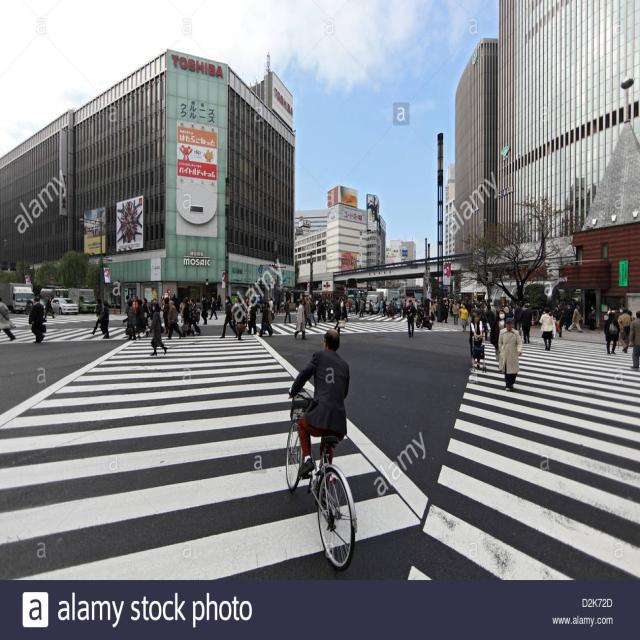body: (323, 286, 637, 357), (118, 275, 322, 341), (285, 328, 351, 497), (332, 187, 390, 276), (497, 316, 523, 392), (148, 301, 169, 357), (218, 294, 239, 340), (28, 295, 47, 344), (468, 311, 483, 369), (489, 309, 506, 359), (538, 305, 556, 351), (0, 296, 17, 343), (602, 311, 620, 355), (616, 306, 632, 352), (628, 311, 640, 369), (166, 300, 183, 339), (88, 297, 105, 336), (294, 298, 308, 340), (124, 300, 138, 340), (520, 302, 533, 344), (567, 302, 584, 334), (333, 296, 346, 336), (404, 298, 417, 337), (98, 300, 110, 339), (513, 302, 523, 337), (456, 303, 468, 332), (43, 296, 55, 320), (282, 296, 292, 324), (208, 296, 218, 320), (201, 294, 208, 325), (588, 305, 596, 332), (452, 300, 459, 326), (554, 306, 562, 315)
